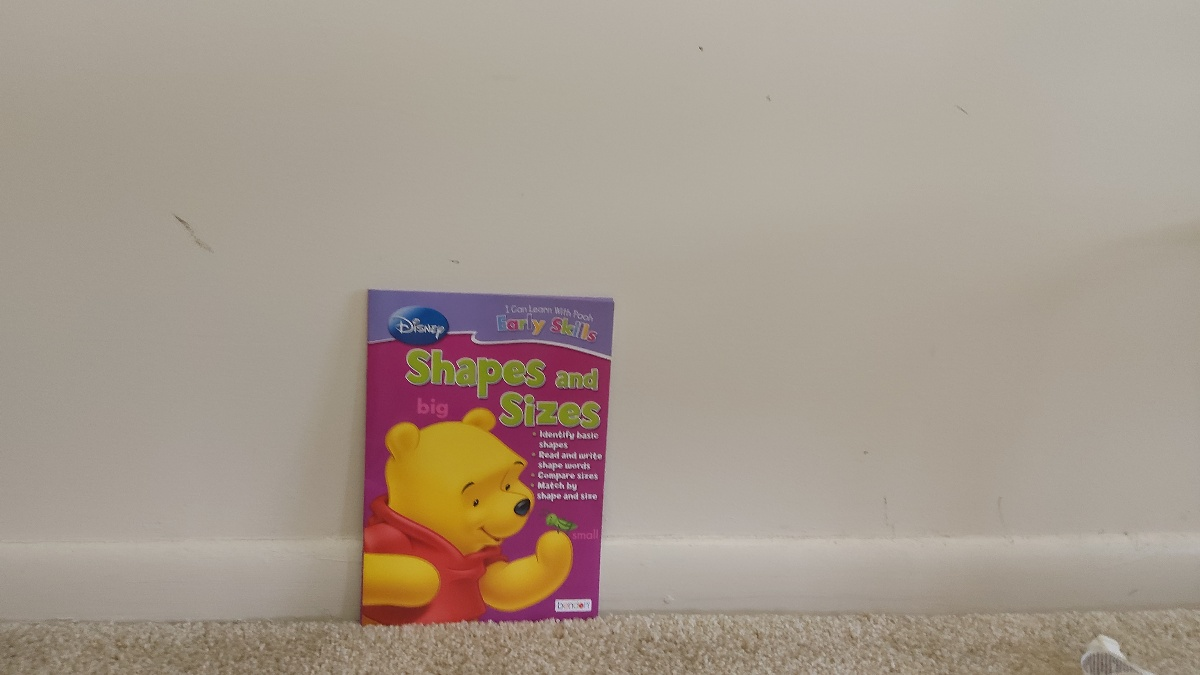book: (367, 289, 597, 621)
